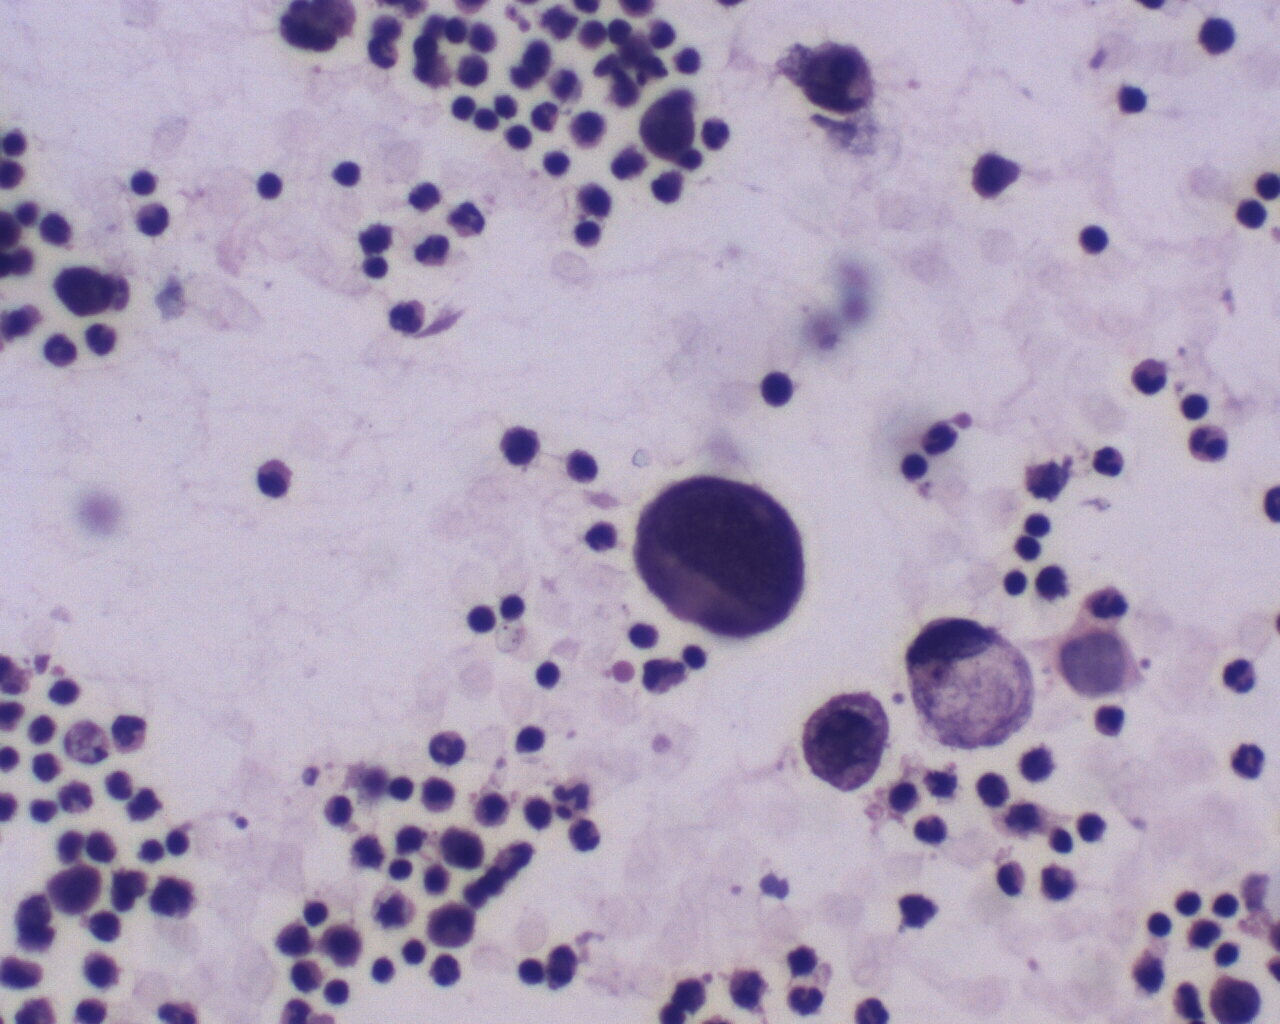ab: (629, 472, 807, 645), (797, 686, 894, 794), (785, 32, 877, 122), (635, 91, 699, 154), (45, 860, 104, 921), (1203, 969, 1266, 1024), (1049, 823, 1079, 855)
histo: (909, 608, 1037, 750)
lymph: (753, 367, 799, 412), (249, 162, 288, 202), (1116, 80, 1157, 119), (1073, 218, 1110, 261), (462, 598, 496, 639), (1207, 889, 1251, 921), (513, 722, 548, 761), (447, 89, 483, 125), (331, 156, 367, 190), (320, 976, 356, 1009), (45, 677, 83, 709), (366, 952, 400, 986), (515, 953, 550, 987), (301, 895, 333, 931), (1146, 906, 1179, 940), (163, 825, 197, 858), (1022, 508, 1057, 539), (1173, 887, 1207, 920), (531, 657, 565, 689), (542, 145, 574, 180), (999, 569, 1031, 601), (383, 771, 416, 802), (897, 451, 932, 480)
neutro: (1184, 418, 1233, 467), (1088, 438, 1134, 485), (385, 292, 429, 336), (1128, 353, 1171, 398), (1226, 739, 1269, 783), (427, 720, 468, 765), (133, 197, 174, 239), (1217, 655, 1259, 696), (45, 328, 82, 373), (910, 809, 952, 847), (784, 982, 829, 1016), (527, 93, 563, 133), (567, 819, 604, 858), (697, 114, 734, 153), (413, 232, 452, 265)
